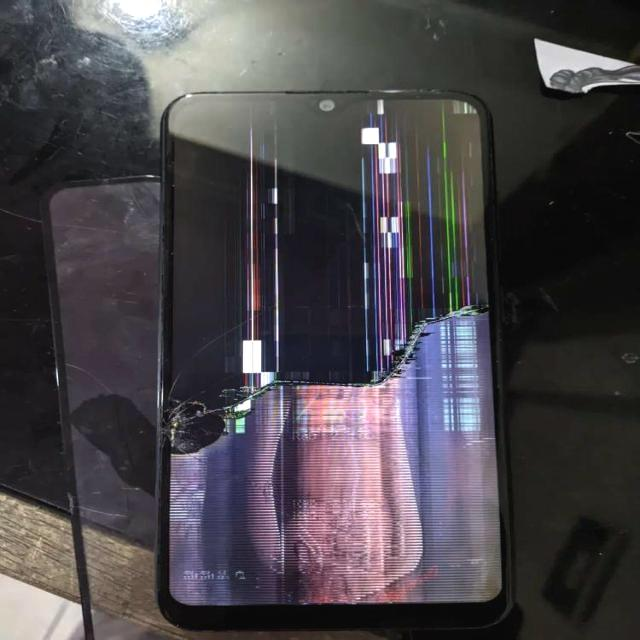phone: (164, 88, 511, 619)
